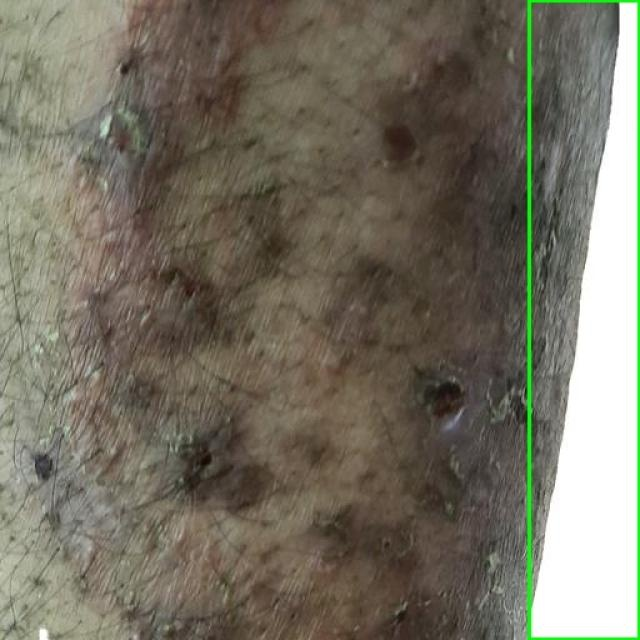Tinea Corporis: (529, 0, 639, 639)
